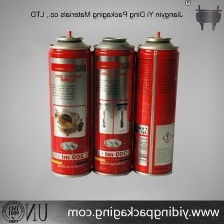aerosol_cans: (128, 28, 183, 179), (46, 26, 95, 181), (89, 32, 140, 177)
